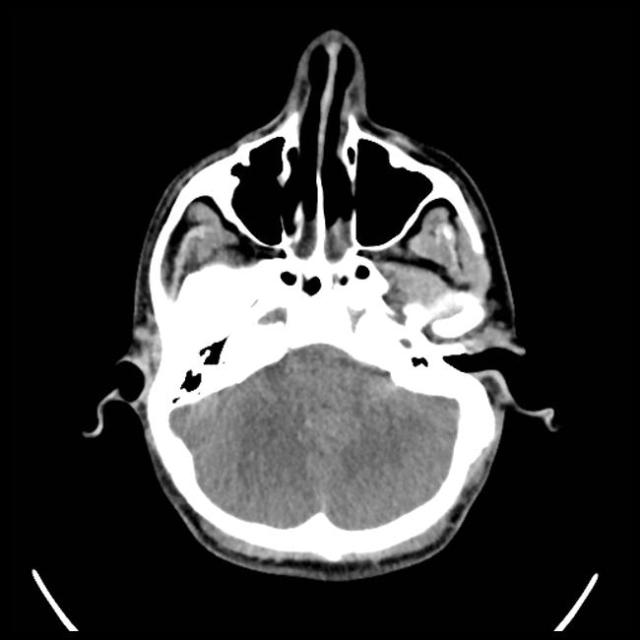lesion: (84, 27, 560, 585)
